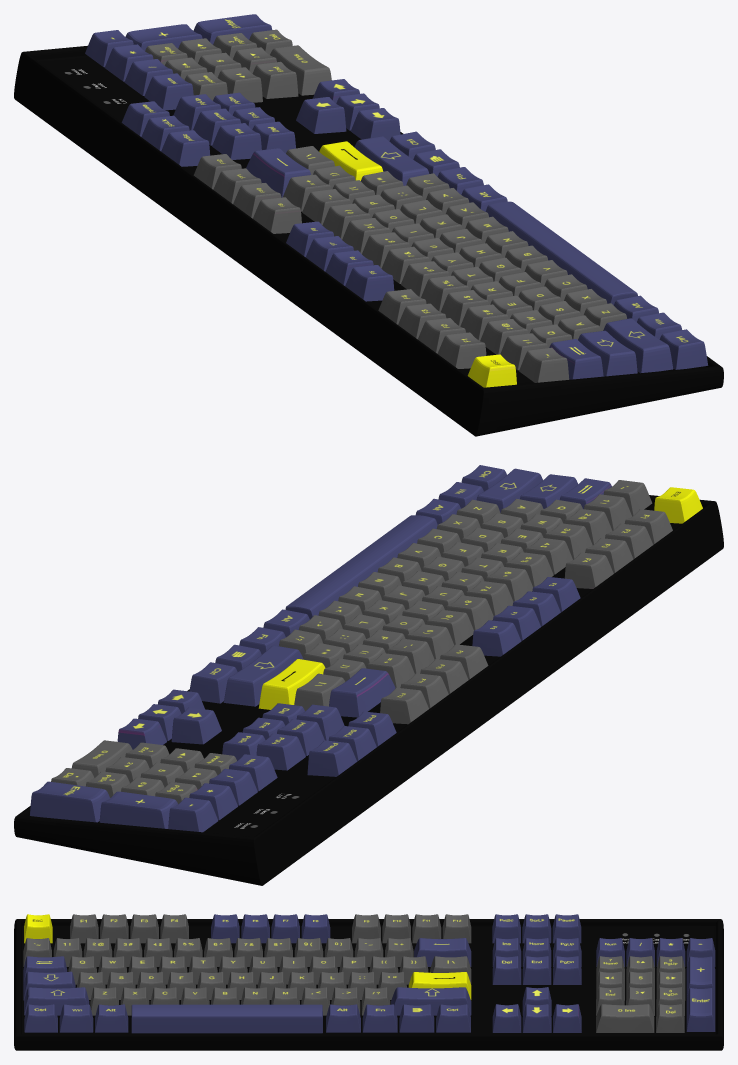
File: full_size_keyboard_nightrunner.glb
3 renders of one model, top to bottom at view 1: azimuth 30°, elevation 25°; view 2: azimuth 150°, elevation 25°; view 3: azimuth 270°, elevation 25°, orthographic. The views are drawn at different scales.
Parts seen in each view (by area): view 1: Keyboard Body; view 2: Keyboard Body; view 3: Keyboard Body.
Part boxes in pixels (x1,y1,x2,y2): Keyboard Body: (14,14,723,436); Keyboard Body: (14,465,723,885); Keyboard Body: (14,914,723,1050).
Bounding box in the file's own units: 5.55 × 1.5 × 18.04.
2 materials, 1 textured.
